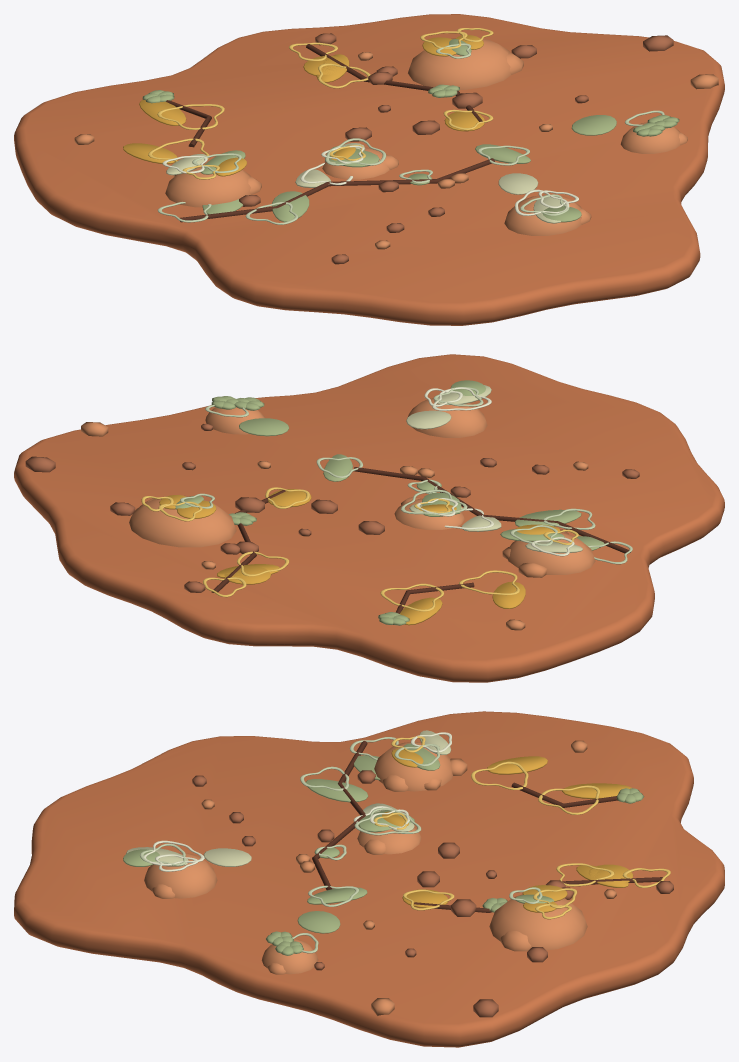
3 renders of one model, top to bottom at view 1: azimuth 30°, elevation 25°; view 2: azimuth 150°, elevation 25°; view 3: azimuth 270°, elevation 25°, orthographic. The views are drawn at different scales.
Parts seen in each view (by area): view 1: Cylinder, Sphere, Cylinder.001, Cylinder.002, Sphere.011, pipe, Torus.001, Torus, Cylinder.003, Torus.002; view 2: Cylinder, Sphere, Cylinder.001, Cylinder.002, Sphere.011, Torus.001, Torus, Cylinder.003, pipe, Torus.002; view 3: Cylinder, Sphere, Cylinder.001, Cylinder.002, Sphere.011, Torus.001, Torus, pipe, Cylinder.003, Torus.002.
Part boxes in pixels (box(x1,y1,x2,y2)): Cylinder: box(14, 14, 724, 325); Sphere: box(74, 38, 718, 249); Cylinder.001: box(142, 39, 679, 222); Cylinder.002: box(123, 35, 484, 176); Sphere.011: box(239, 33, 673, 264); pipe: box(166, 44, 494, 222); Torus.001: box(148, 28, 493, 179); Torus: box(157, 43, 664, 224); Cylinder.003: box(166, 143, 565, 223); Torus.002: box(162, 145, 578, 215); Cylinder: box(14, 354, 724, 682); Sphere: box(81, 398, 595, 630); Cylinder.001: box(175, 380, 604, 625); Cylinder.002: box(159, 489, 560, 625); Sphere.011: box(25, 424, 639, 592); Torus.001: box(141, 487, 578, 611); Torus: box(180, 387, 632, 564); Cylinder.003: box(406, 385, 582, 553); pipe: box(211, 467, 630, 624); Torus.002: box(417, 387, 574, 556); Cylinder: box(14, 711, 724, 1047); Sphere: box(144, 740, 616, 1015); Cylinder.001: box(123, 743, 644, 955); Cylinder.002: box(382, 748, 633, 912); Sphere.011: box(192, 770, 673, 1017); Torus.001: box(373, 736, 670, 919); Torus: box(140, 737, 542, 953); pipe: box(312, 741, 662, 912); Cylinder.003: box(126, 730, 451, 866); Torus.002: box(143, 732, 451, 871).
Bounding box in the file's own units: 1.53 × 0.1338 × 1.43.
